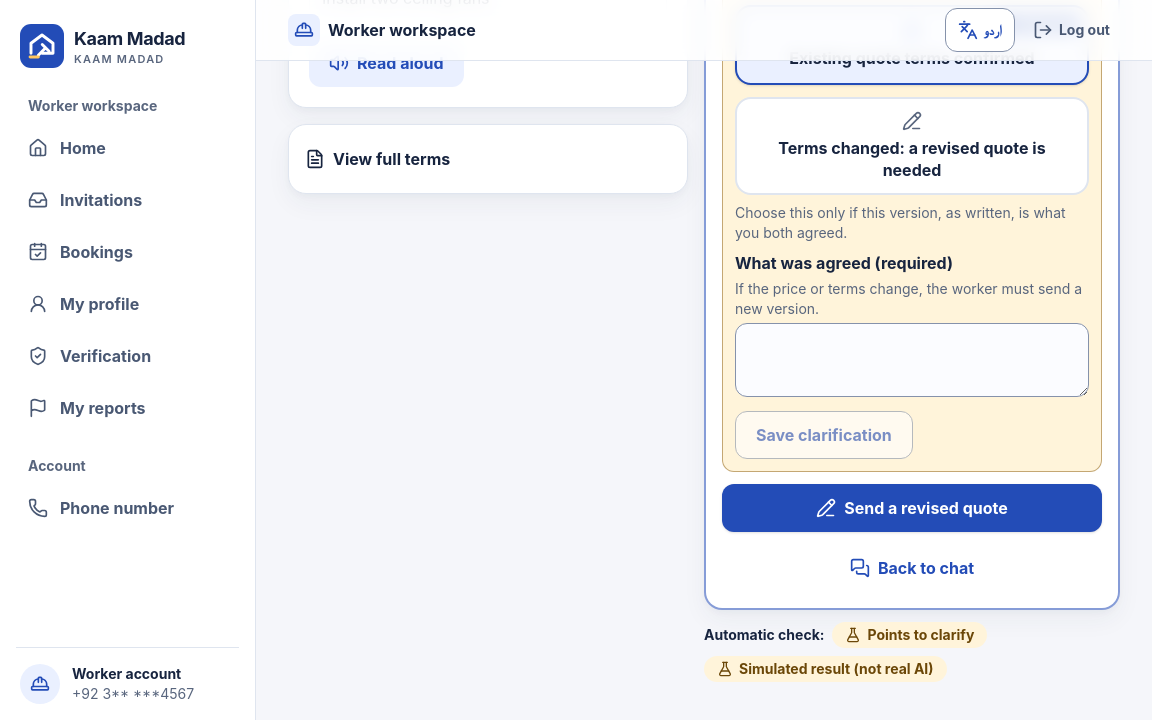
Test: quotes and agreement gaps › shows the conflict with its sources, records a clarification, and is not ready meanwhile
The width and height of the screenshot is (1152, 720).
(page scrolled)
Expected: the text "Simulated result (not real AI)" is shown, [739,659,934,679]
Expected: the button "Send a revised quote" is shown, [722,484,1102,532]
Type "Customer buys the fans" into the text box labelled "What was agreed (required)".
click(912, 360); type("Customer buys the fans")  # box [735,323,1089,397]
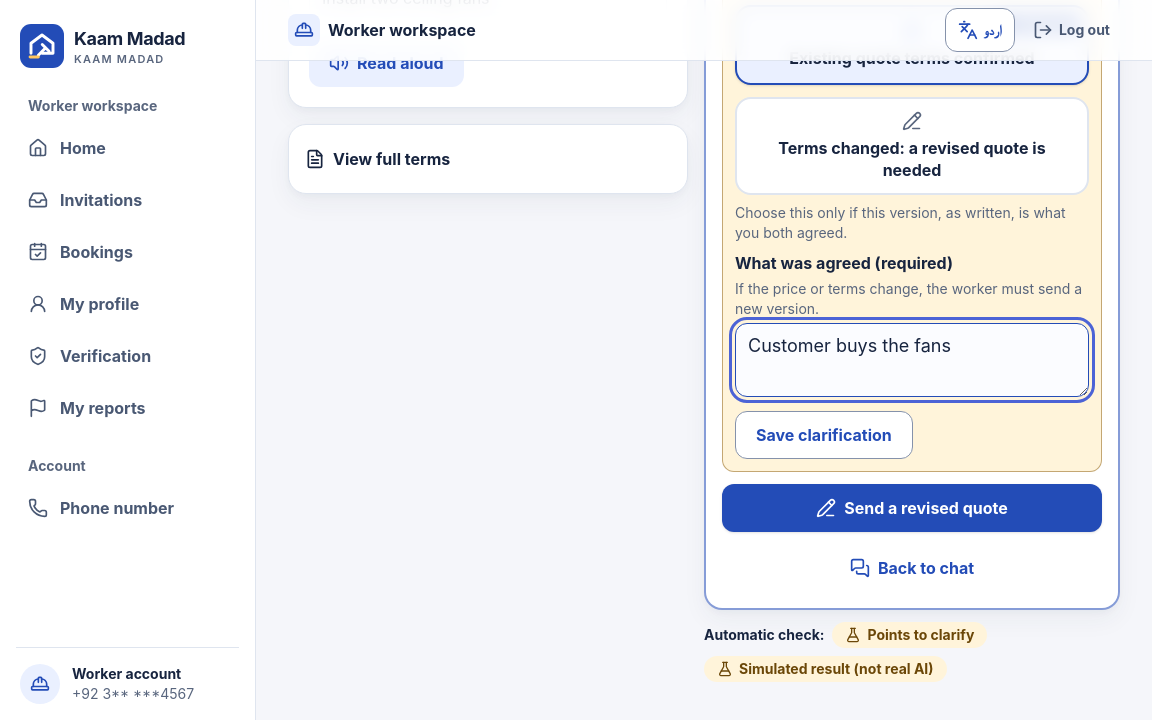
Click the button "Save clarification".
click(824, 435)  # box [735,411,913,459]
(page scrolled)
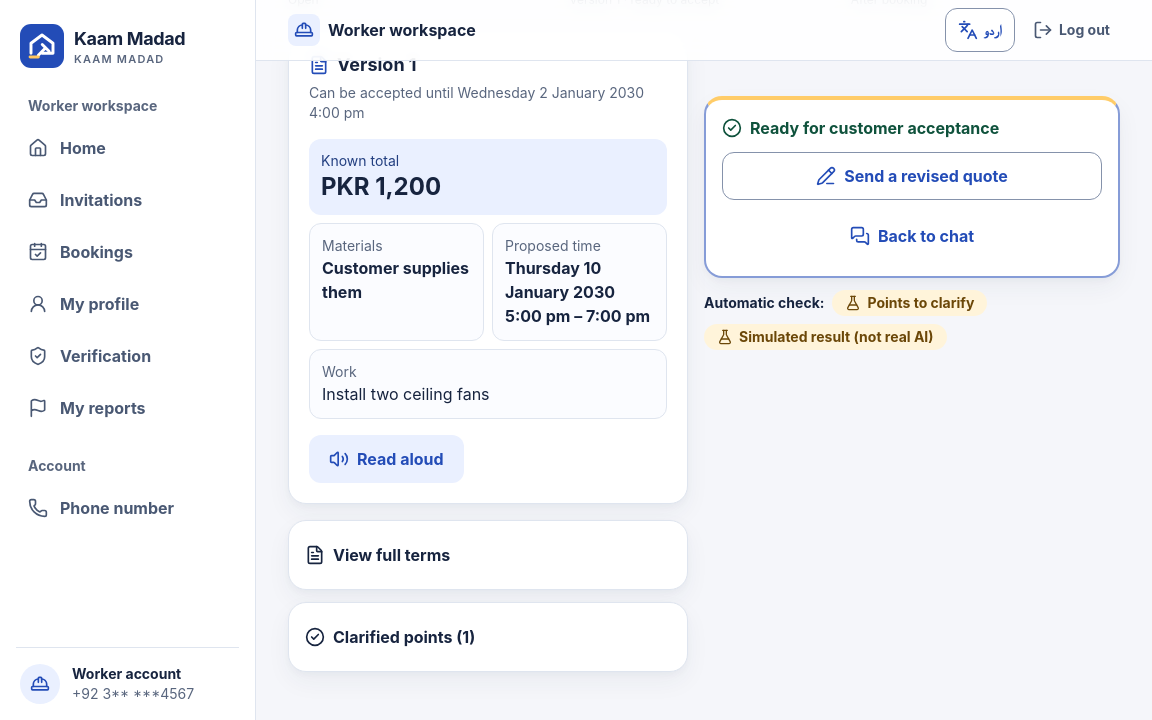
Now the text "Ready for customer acceptance" is shown, box [722,118,999,138]
